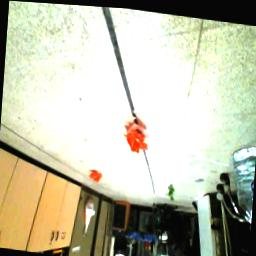herb: (165, 180, 178, 200)
wild: (121, 127, 151, 154), (87, 168, 103, 183)
